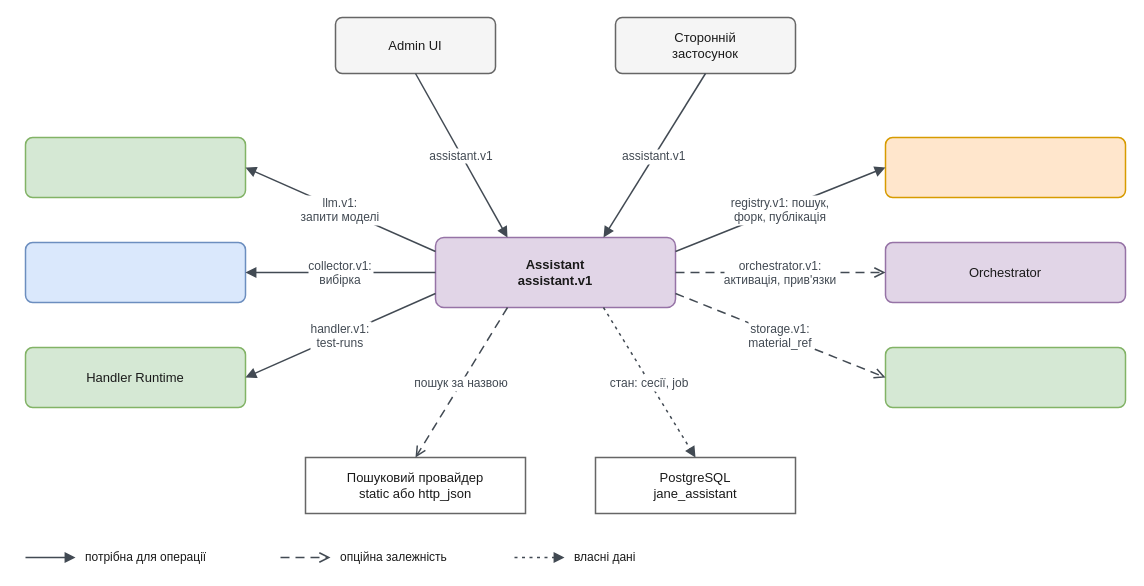
The diagram is 1144 pixels wide and 586 high, and some of its shapes have lost their labels. The box of each missing label's shape, as (x1, y1, x2, y2) in pixels:
LLM gateway: (24, 136, 246, 198)
Registry: (884, 136, 1126, 198)
Storage: (884, 346, 1126, 408)
Web Collector Telegram Collector: (24, 241, 246, 303)
